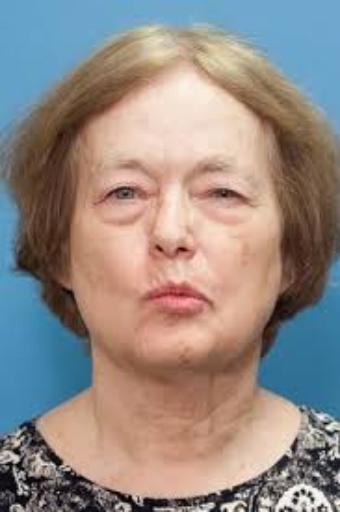left_eye: (194, 185, 251, 209)
left_lip_corner: (204, 293, 218, 314)
right_eye: (98, 185, 153, 209)
right_lip_corner: (137, 290, 153, 311)
